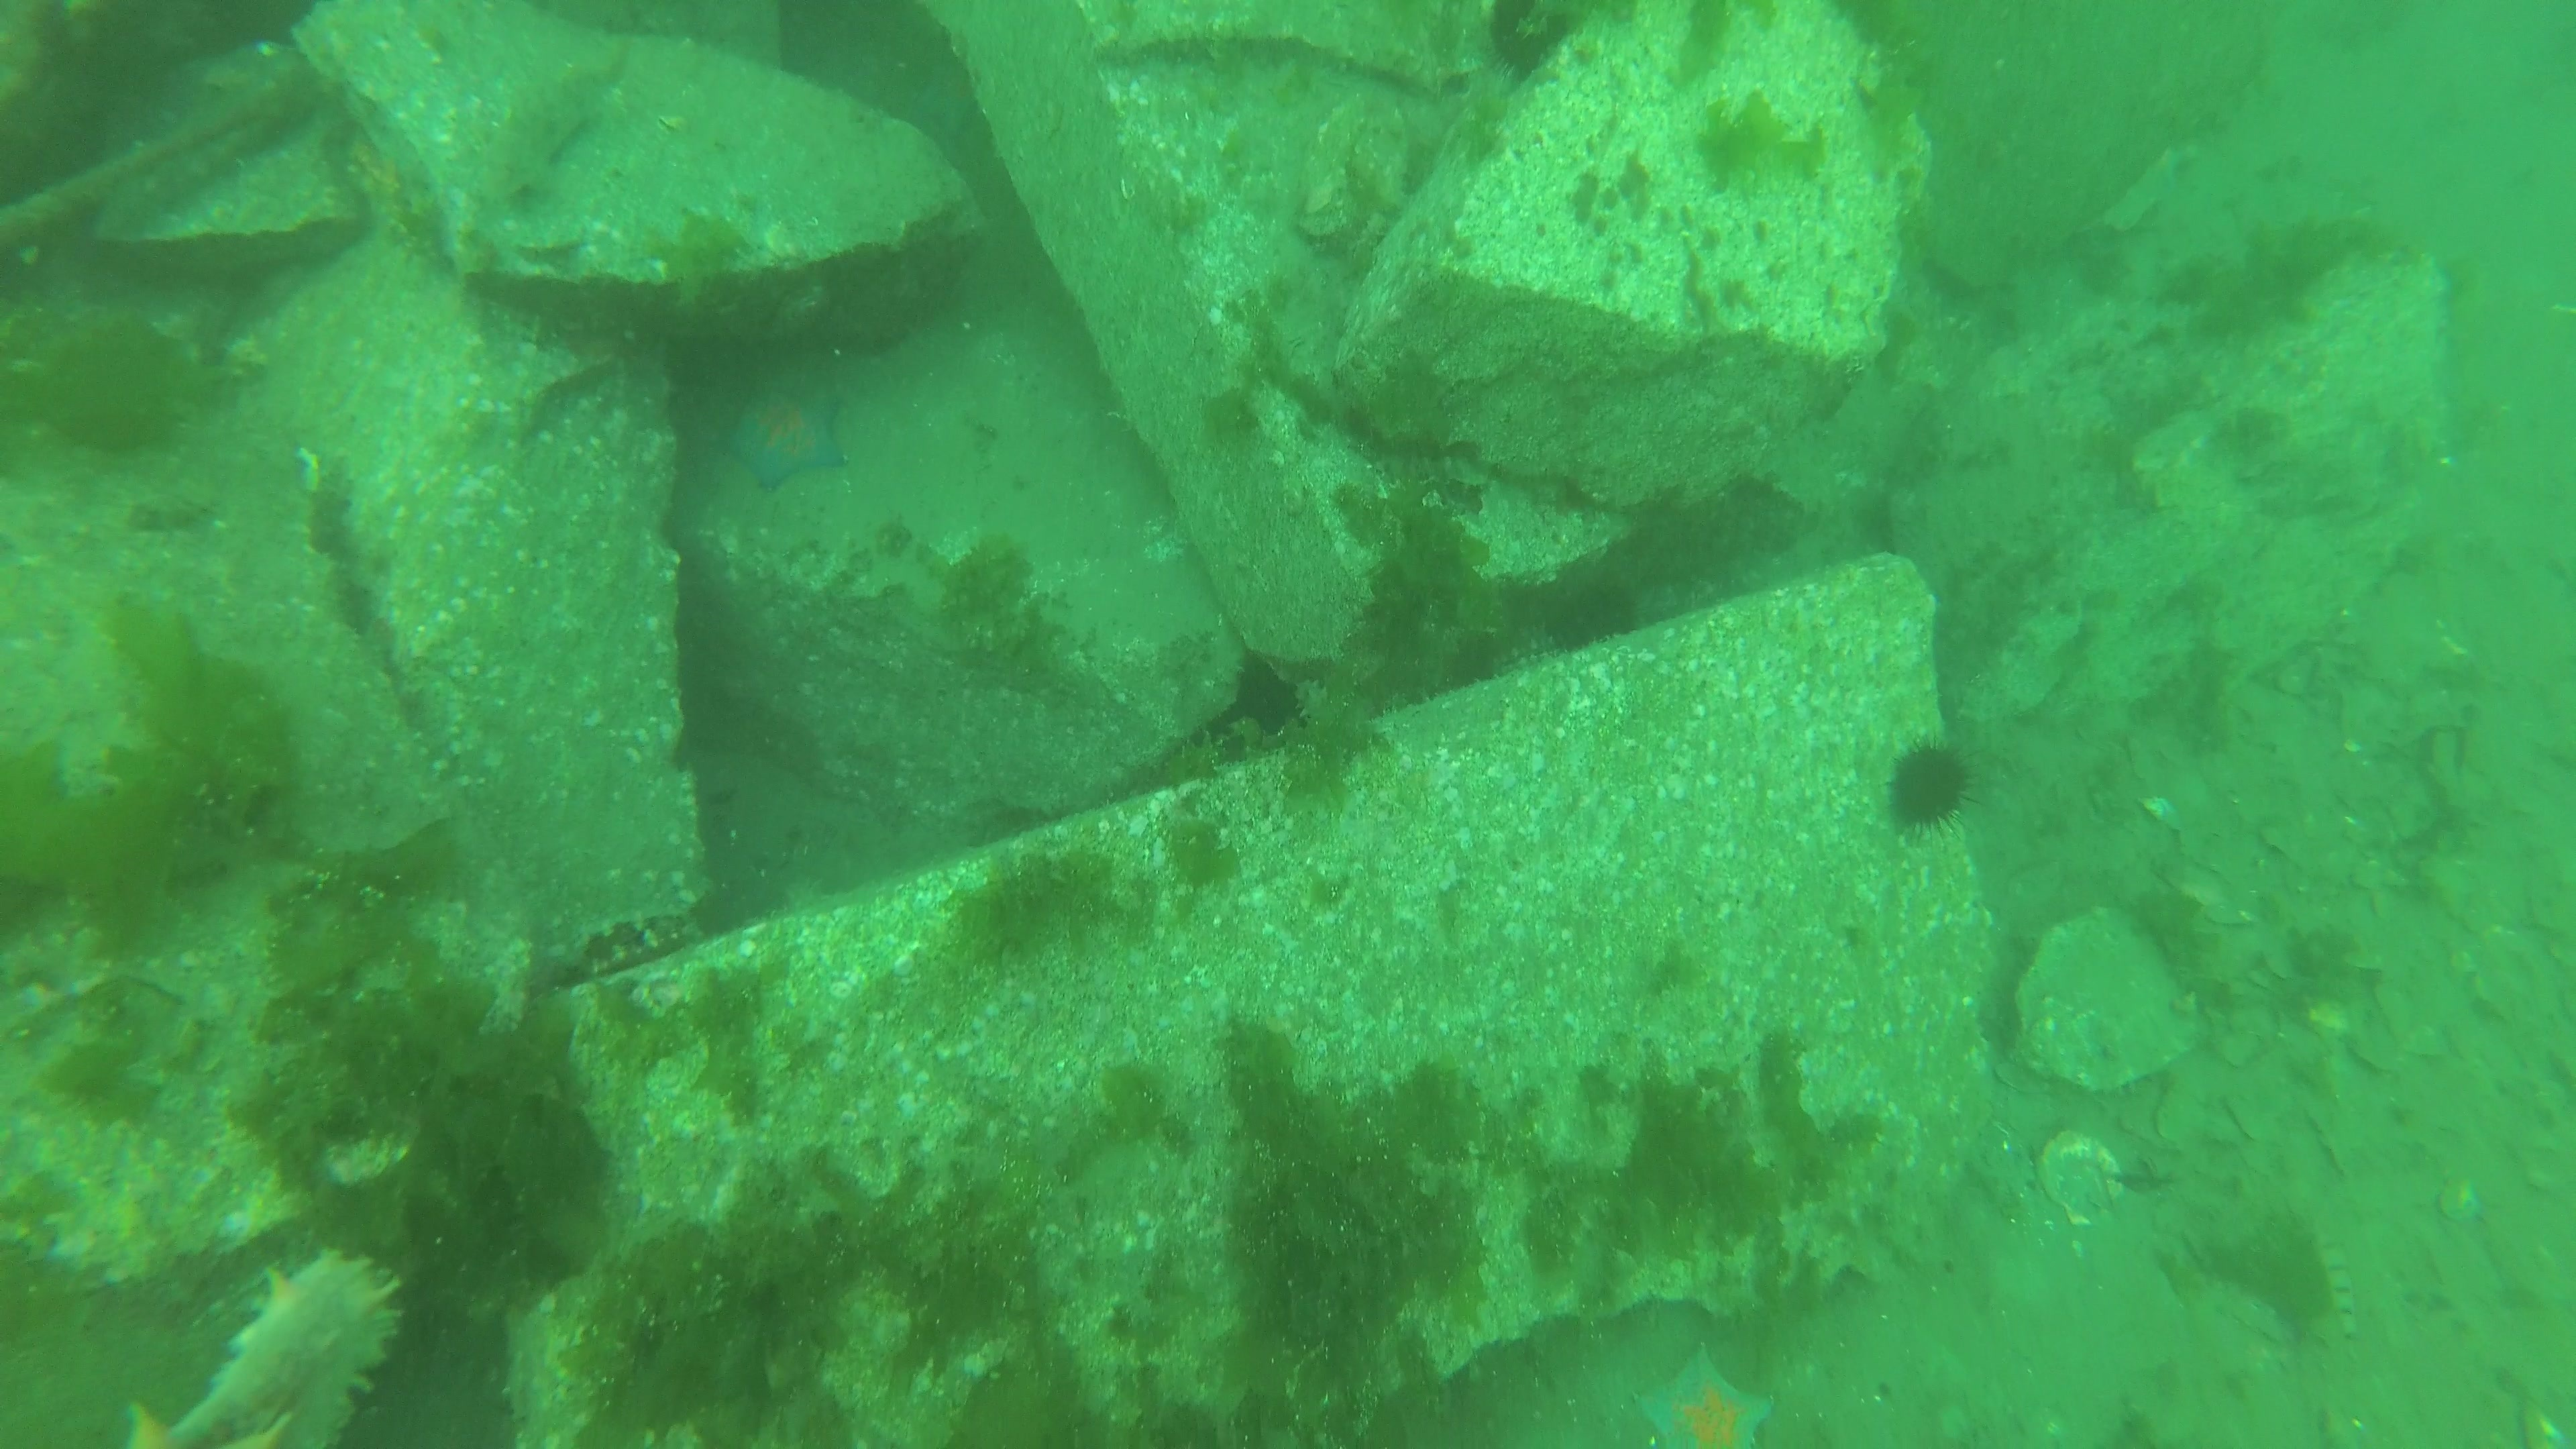echinus: (1881, 718, 1989, 837), (1537, 579, 1645, 655), (1484, 0, 1575, 83)
holothurian: (111, 1224, 407, 1449), (1293, 678, 1330, 725), (1355, 211, 1387, 249)
scallop: (2036, 1127, 2130, 1233)
starfish: (1628, 1330, 1782, 1449), (724, 386, 849, 494), (918, 65, 978, 140)
